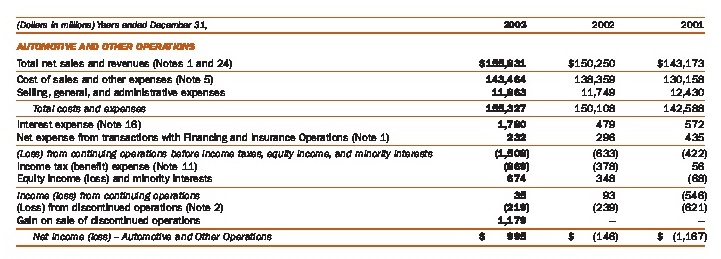table: (0, 0, 721, 259)
